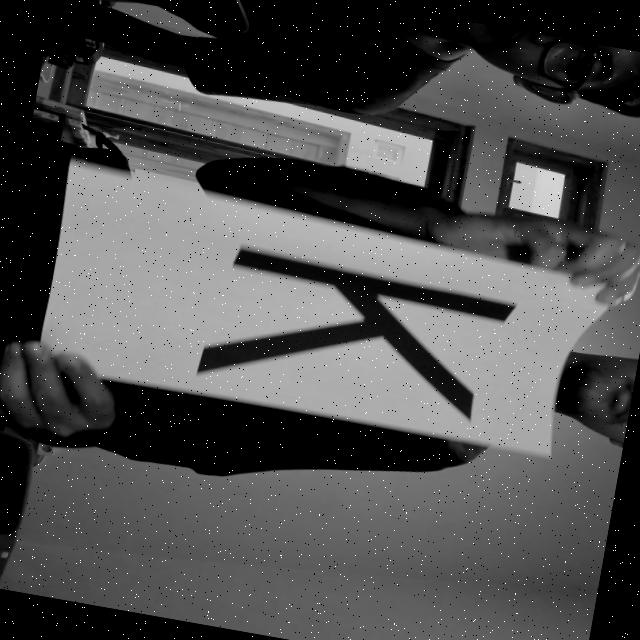k: (158, 232, 530, 433)
